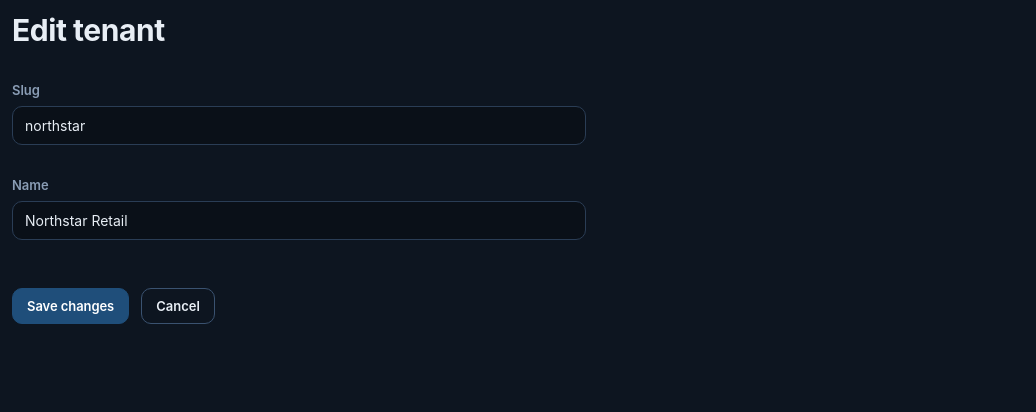
it: TenantForm edit › 404 on update -> uniform not-available, no route change
Replace the text in the field labelled "Name" with "Renamed" at (299, 220), box [12,201,586,240]
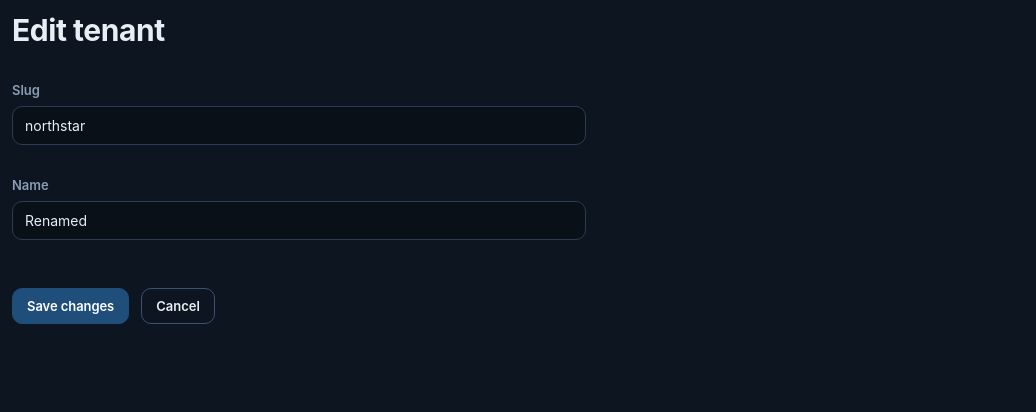
Click the button "Save changes" at (71, 306), box [12,288,129,324]
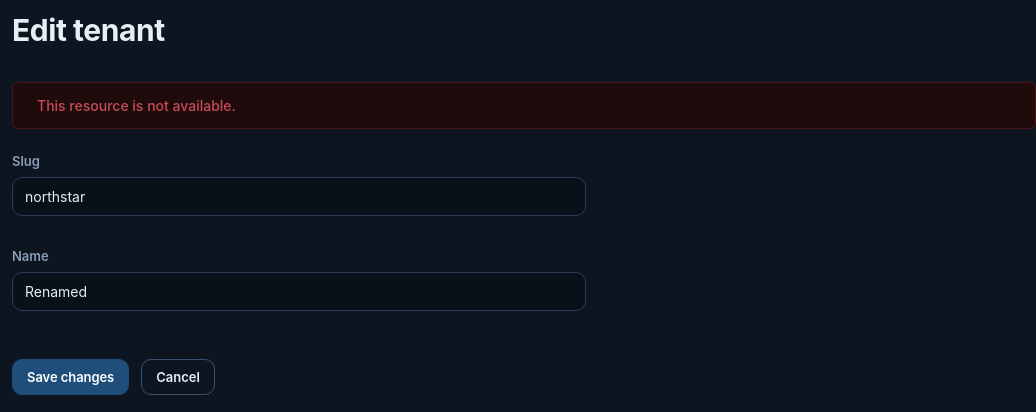
expect the text "This resource is not available." is shown: met, box [37,96,236,114]
